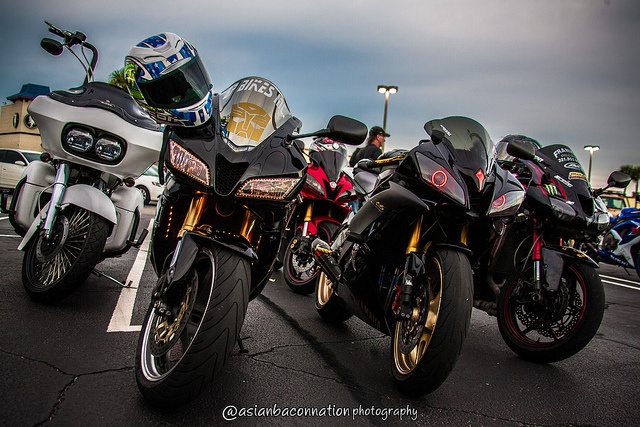non-vehicle: (135, 77, 366, 405), (307, 115, 525, 399), (8, 19, 161, 304), (463, 139, 609, 362), (270, 135, 356, 292), (573, 206, 639, 278), (565, 195, 610, 264)
